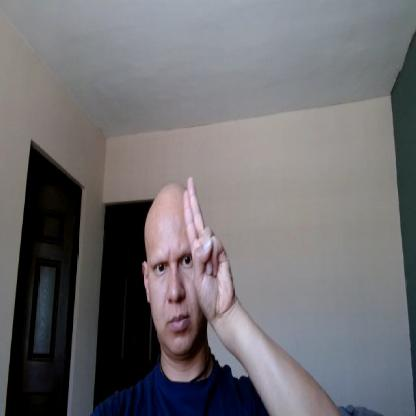U: (183, 174, 234, 314)
